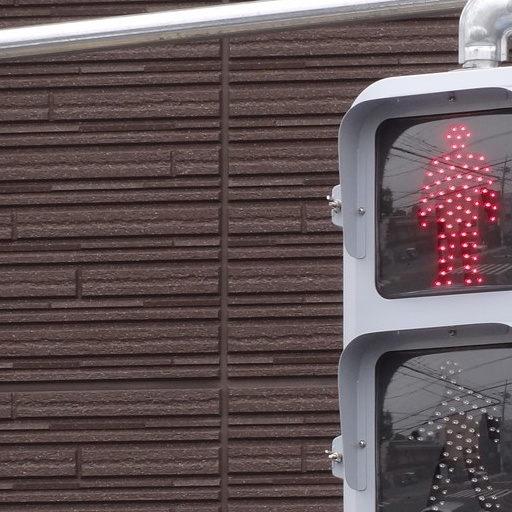Pedestrian_Signal_Red: (350, 70, 503, 501)
